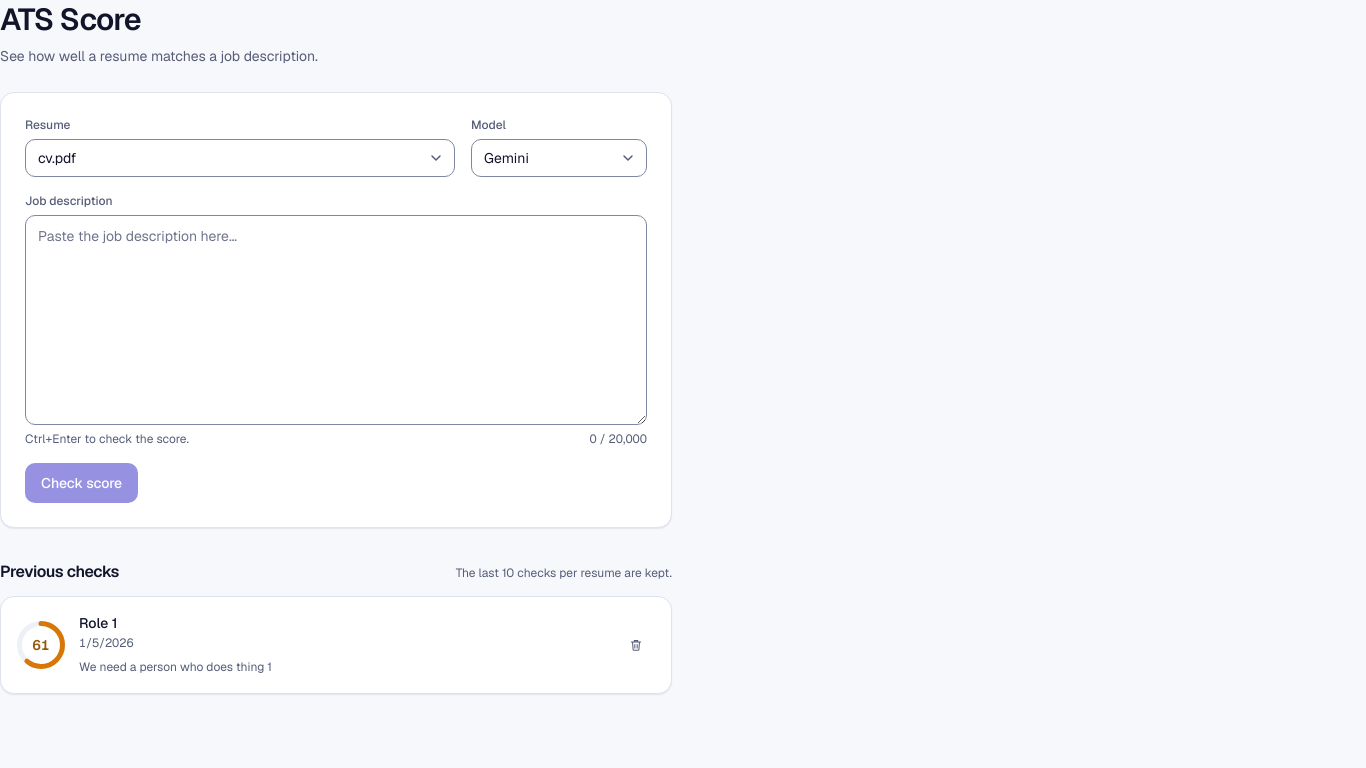
Test case: ATS previous checks › keeps the row and shows the error in the dialog when delete fails
Click the button named "Delete saved check: Role 1": {"x": 636, "y": 645} [617,629,655,661]
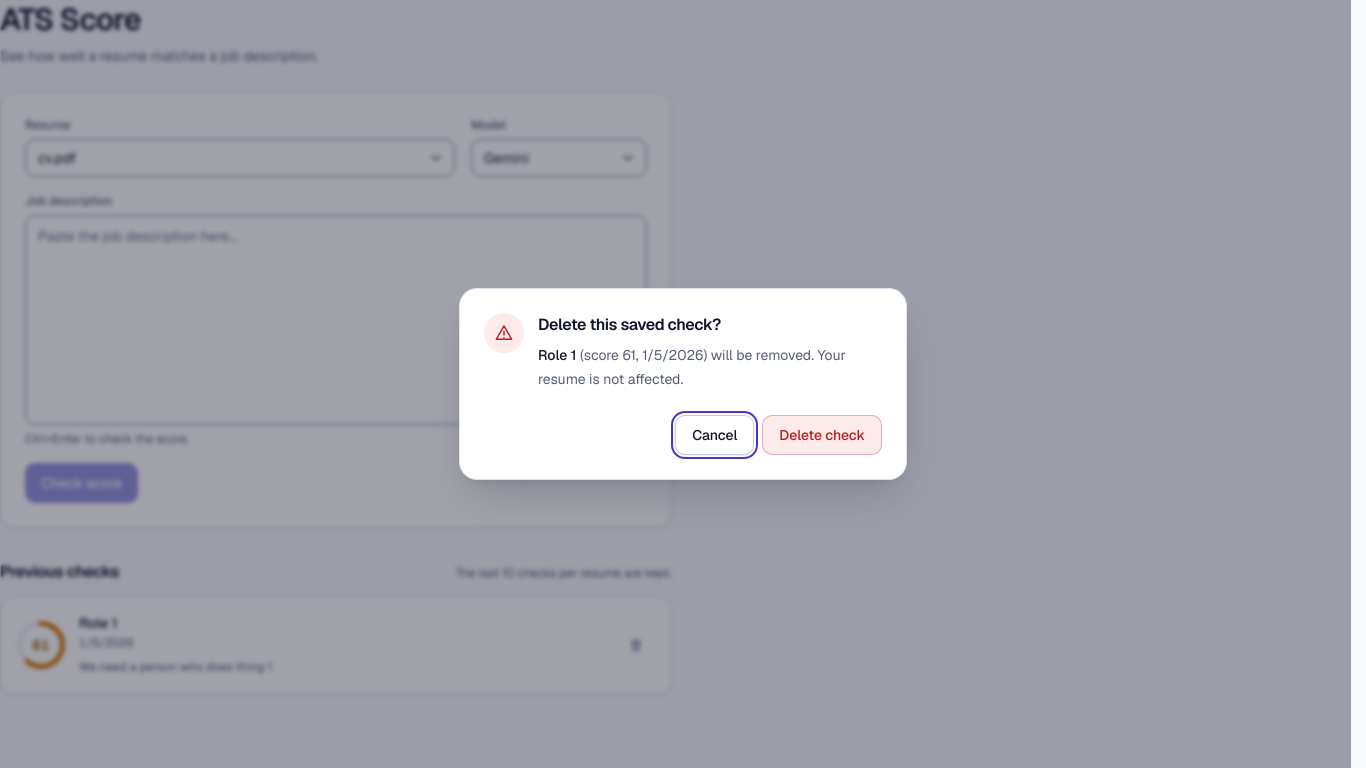
Click the button "Delete check": {"x": 822, "y": 435} [762,415,882,455]
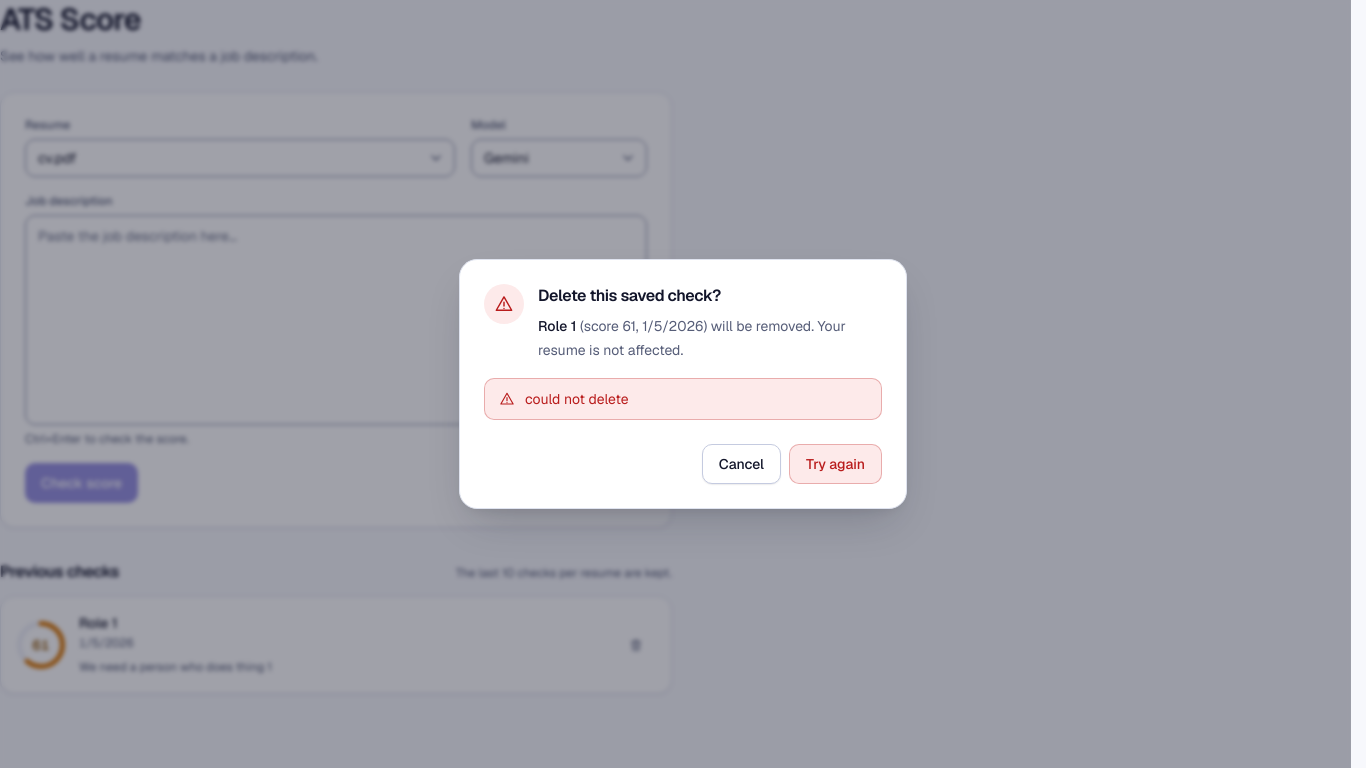
Expected: the button with aria-label "Open saved check: Role 1" is shown, [79,613,118,633]
Result: the message reads "could not delete" at [525,390,629,408]
